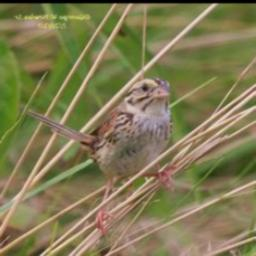Sparrow: (25, 77, 179, 241)
